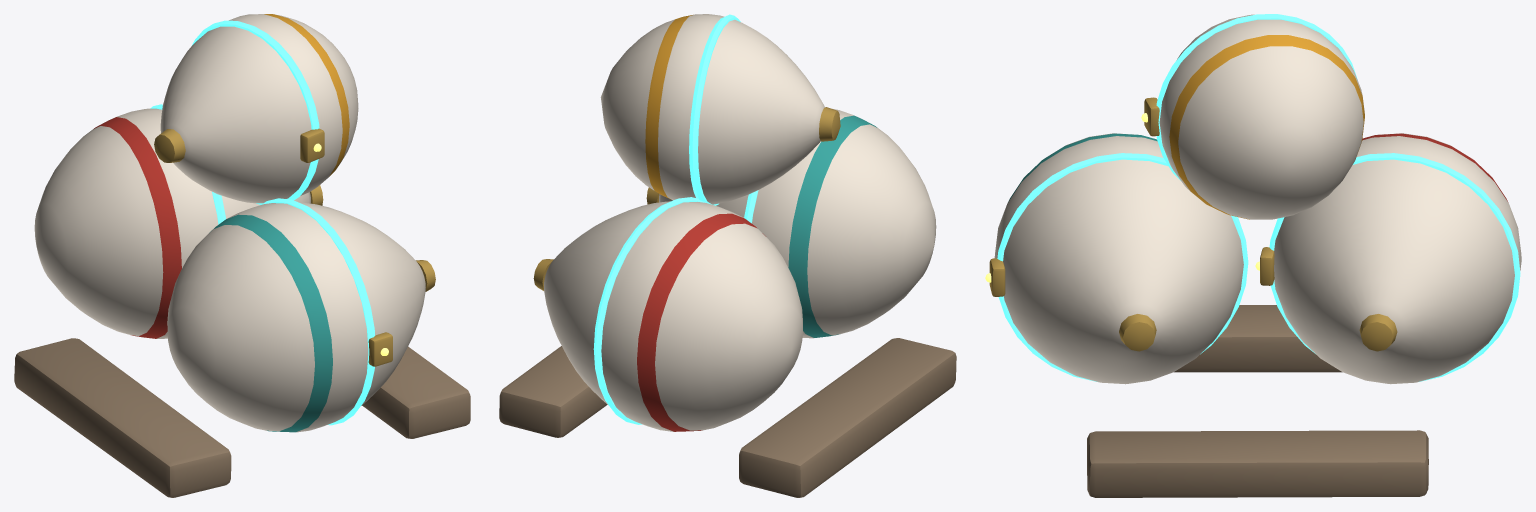
File: deco_cargo_pod_stack.fbx
The picture shows the model from 3 angles, left to right: view 1: azimuth 30°, elevation 25°; view 2: azimuth 150°, elevation 25°; view 3: azimuth 270°, elevation 25°; orthographic projection. The views are drawn at different scales.
Visible parts, largest first — view 1: CargoPod_Stack_Lying1_ShellLower, CargoPod_Stack_Lying2_ShellLower, CargoPod_Stack_Chocks, CargoPod_Stack_Top_ShellUpper, CargoPod_Stack_Top_ShellLower, CargoPod_Stack_Lying1_ShellUpper, CargoPod_Stack_Lying2_ShellUpper; view 2: CargoPod_Stack_Lying2_ShellLower, CargoPod_Stack_Lying1_ShellLower, CargoPod_Stack_Chocks, CargoPod_Stack_Top_ShellUpper, CargoPod_Stack_Top_ShellLower, CargoPod_Stack_Lying2_ShellUpper, CargoPod_Stack_Lying1_ShellUpper; view 3: CargoPod_Stack_Lying1_ShellUpper, CargoPod_Stack_Lying2_ShellUpper, CargoPod_Stack_Top_ShellLower, CargoPod_Stack_Chocks, CargoPod_Stack_Lying1_ShellLower, CargoPod_Stack_Lying2_ShellLower, CargoPod_Stack_Top_ShellUpper.
Boxes of the visible parts, x1,y1,x2,y2 form: CargoPod_Stack_Lying1_ShellLower: (167,198,375,432); CargoPod_Stack_Lying2_ShellLower: (34,104,226,338); CargoPod_Stack_Chocks: (14,338,470,497); CargoPod_Stack_Top_ShellUpper: (154,26,324,203); CargoPod_Stack_Top_ShellLower: (192,14,358,204); CargoPod_Stack_Lying1_ShellUpper: (300,202,435,405); CargoPod_Stack_Lying2_ShellUpper: (221,185,323,218); CargoPod_Stack_Lying2_ShellLower: (593,197,802,431); CargoPod_Stack_Lying1_ShellLower: (744,108,936,338); CargoPod_Stack_Chocks: (499,338,956,497); CargoPod_Stack_Top_ShellUpper: (698,19,840,204); CargoPod_Stack_Top_ShellLower: (600,14,740,205); CargoPod_Stack_Lying2_ShellUpper: (533,201,670,405); CargoPod_Stack_Lying1_ShellUpper: (646,187,748,217); CargoPod_Stack_Lying1_ShellUpper: (985,159,1243,384); CargoPod_Stack_Lying2_ShellUpper: (1255,159,1514,384); CargoPod_Stack_Top_ShellLower: (1156,14,1364,219); CargoPod_Stack_Chocks: (1087,305,1428,497); CargoPod_Stack_Lying1_ShellLower: (994,133,1248,381); CargoPod_Stack_Lying2_ShellLower: (1269,133,1521,381); CargoPod_Stack_Top_ShellUpper: (1141,14,1254,136).
Size of the model in its own units: 140 by 167 by 197.
